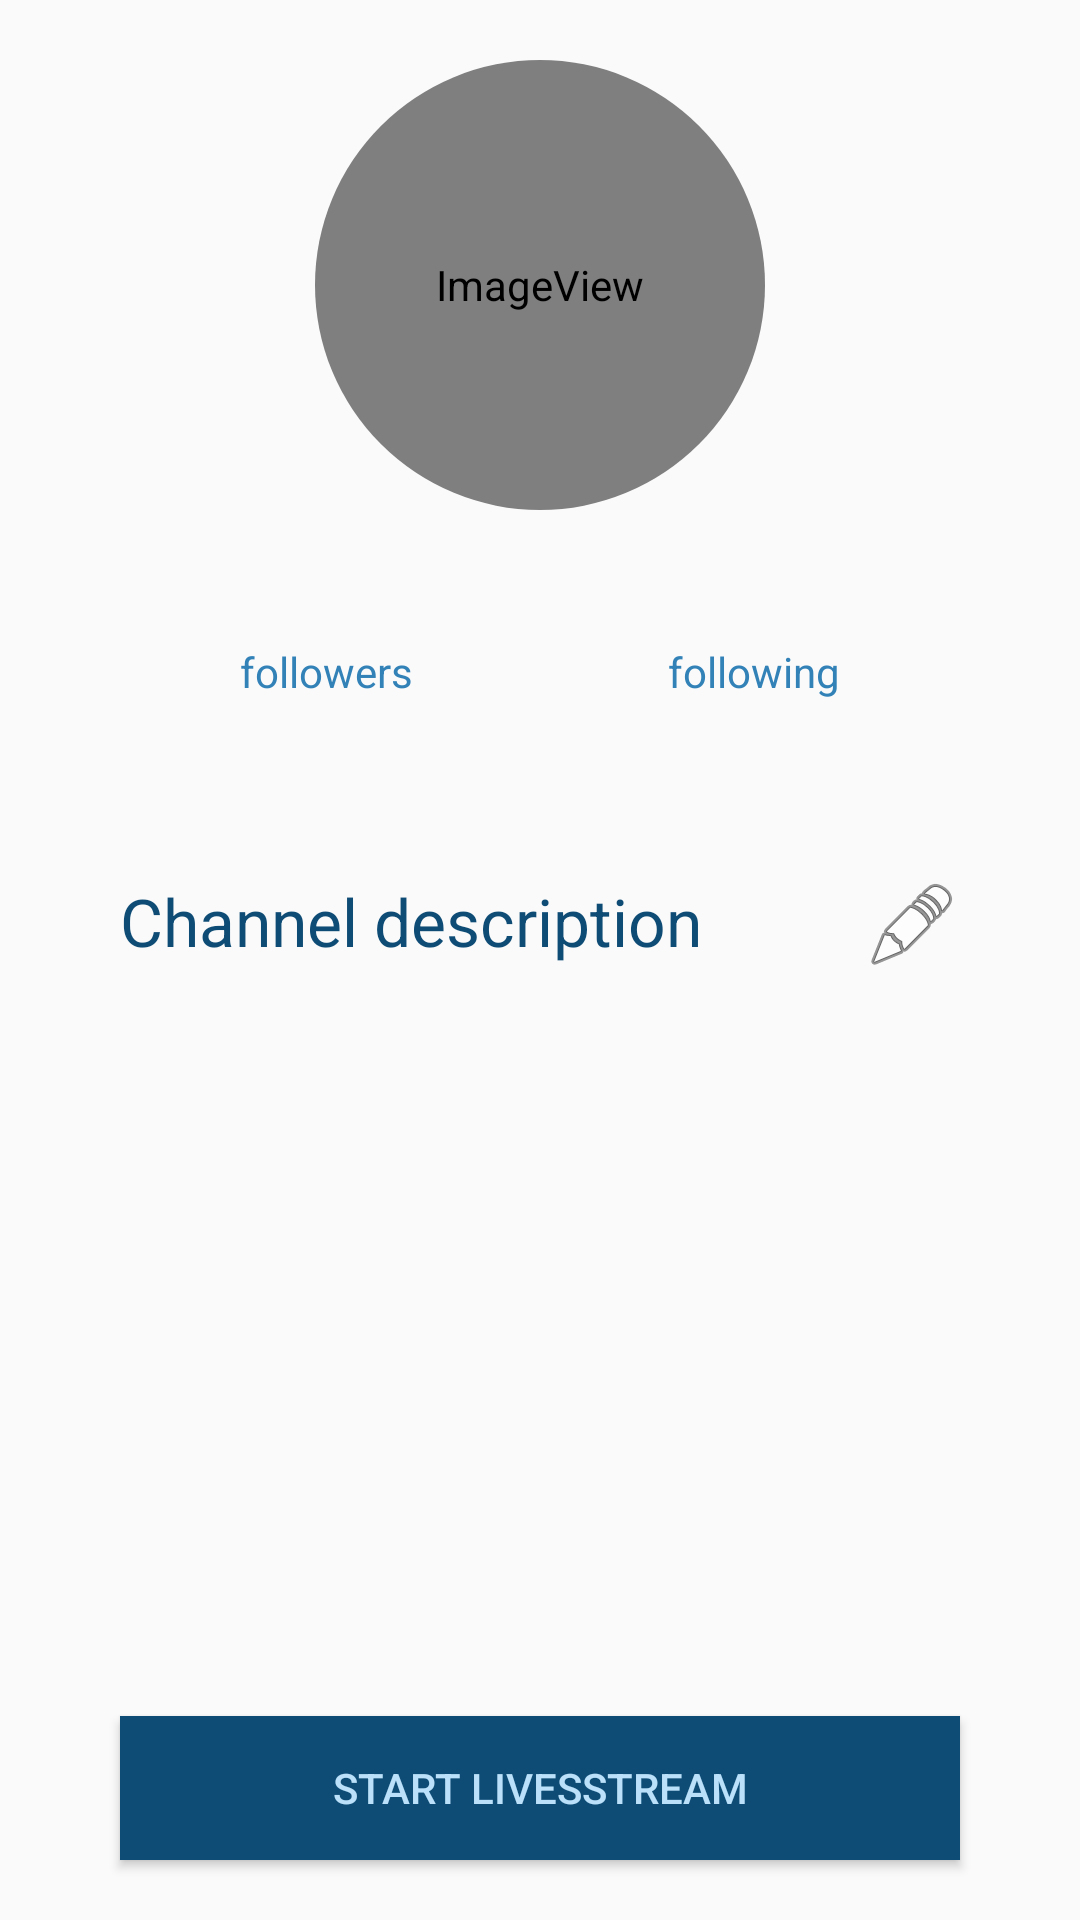

Where icons sit on this 1080*1920 app screen, as (x1, y1, x2, y2):
edit: (871, 884, 952, 965)
